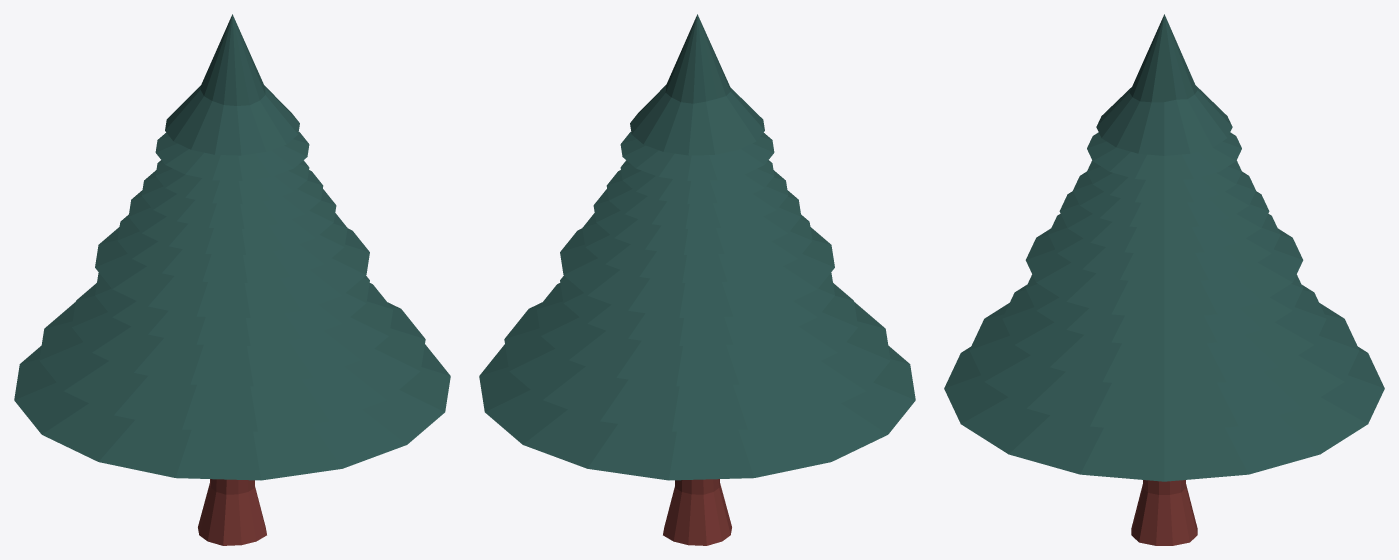
Rendered from pine.fbx.
3 views of the same model, side by side, from view 1: azimuth 30°, elevation 25°; view 2: azimuth 150°, elevation 25°; view 3: azimuth 270°, elevation 25° (orthographic).
Visible parts, largest first — view 1: Cube; view 2: Cube; view 3: Cube.
Boxes of the visible parts, bbox=[...] form: Cube: bbox=[14, 14, 450, 545]; Cube: bbox=[479, 14, 915, 545]; Cube: bbox=[944, 14, 1384, 545].
Bounding box in the file's own units: 12.72 × 12.72 × 16.49.
